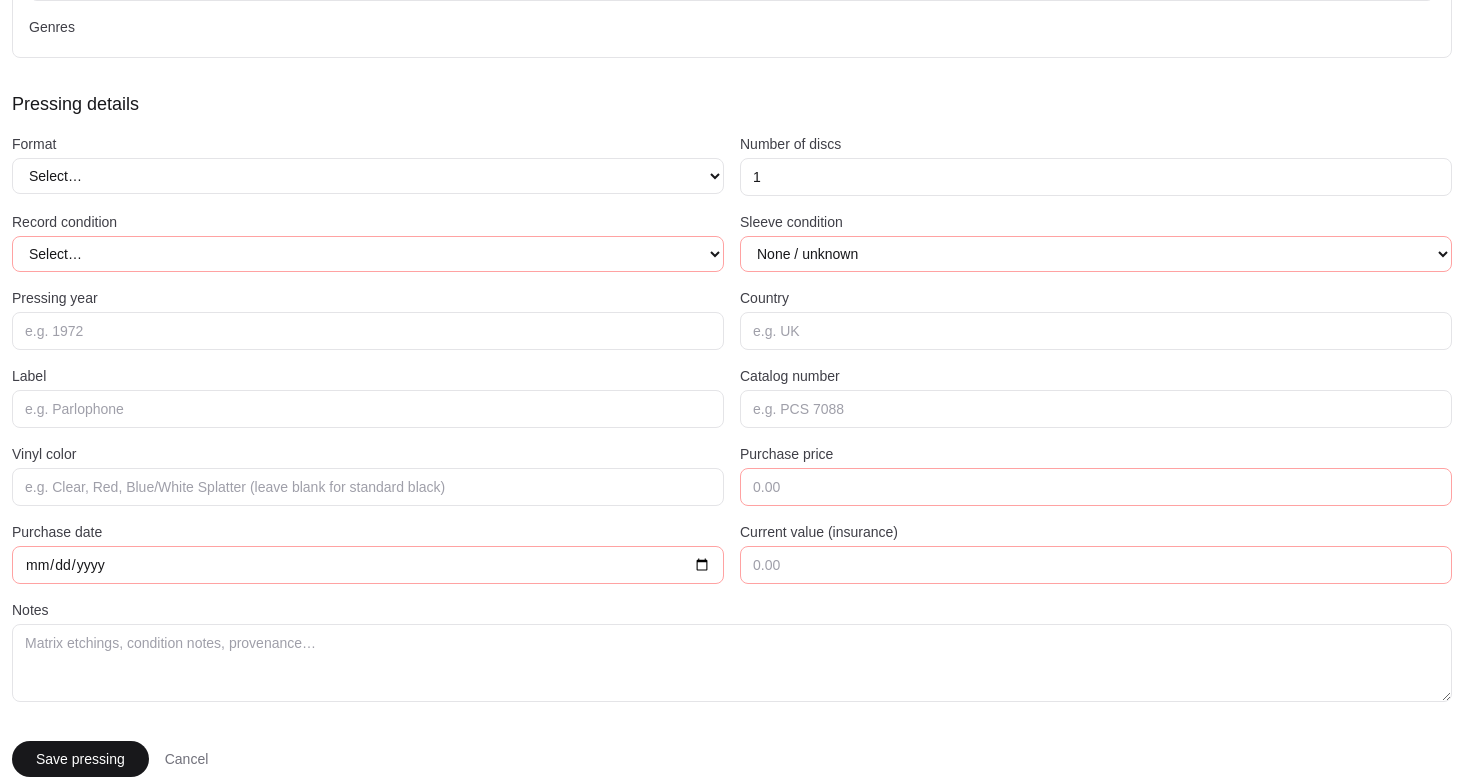
Test case: PressingsForm › Purchase price mirroring into Current value › mirrors Purchase price into Current value as it is typed
(page scrolled)
Type "35" into the number field named "purchasePrice" at point(1096, 487), box [740,468,1452,506]
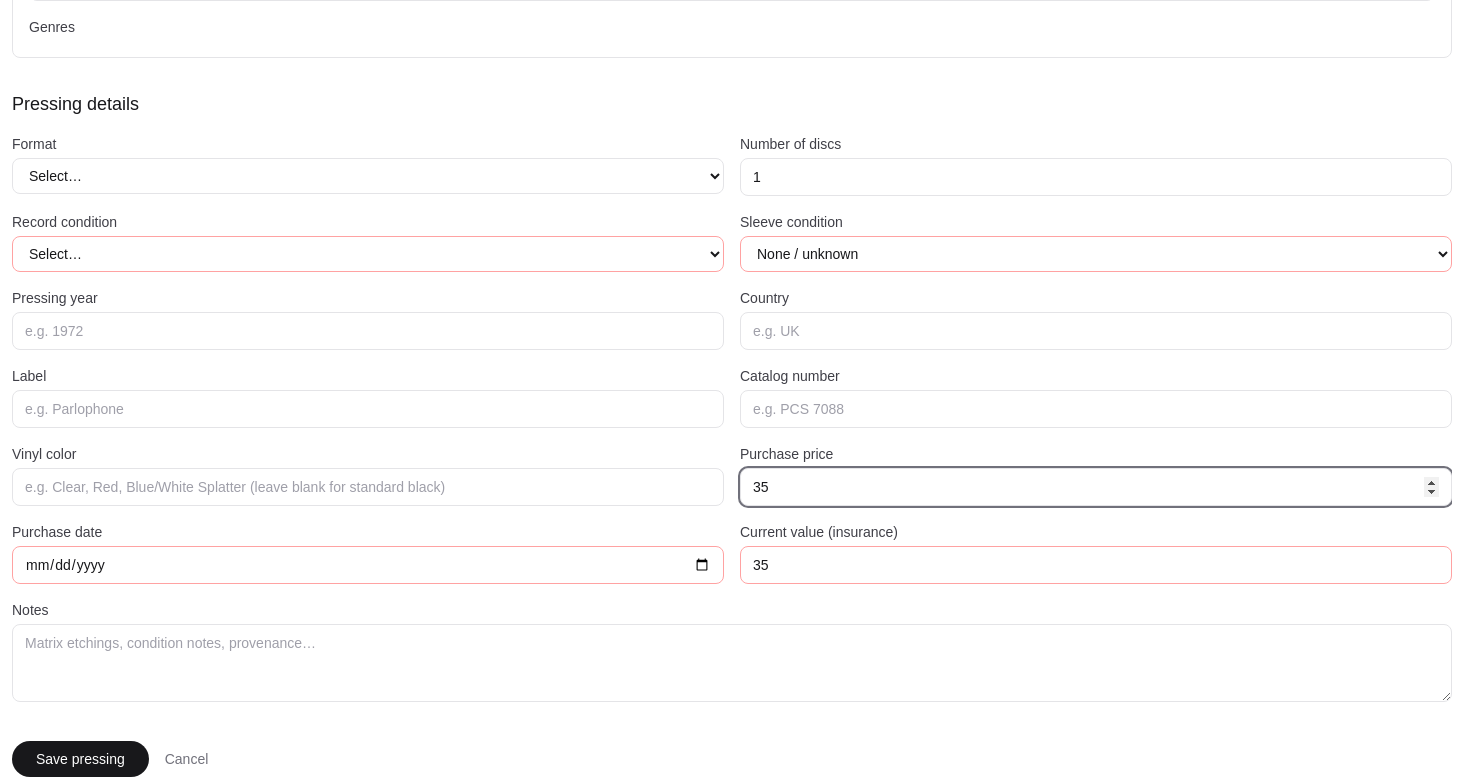
Result: the number field named "currentValue" below "Current value (insurance)" holds "35" at [740,546,1452,584]
